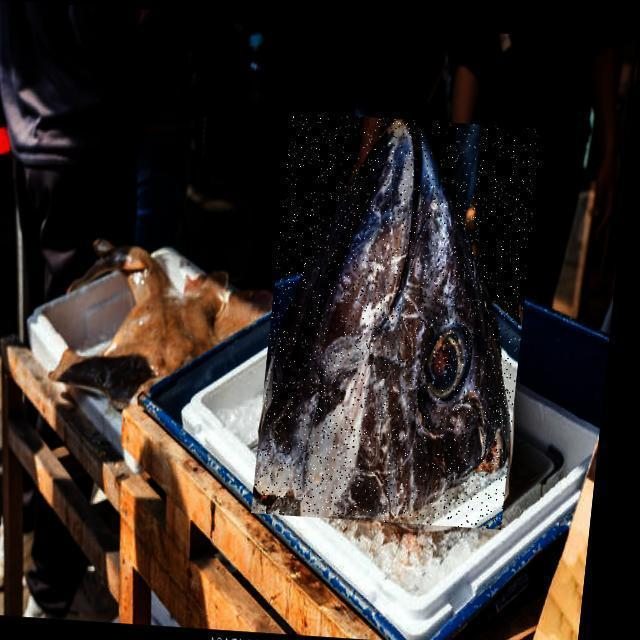cups: (250, 116, 517, 530)
trashbin: (122, 284, 605, 637)
